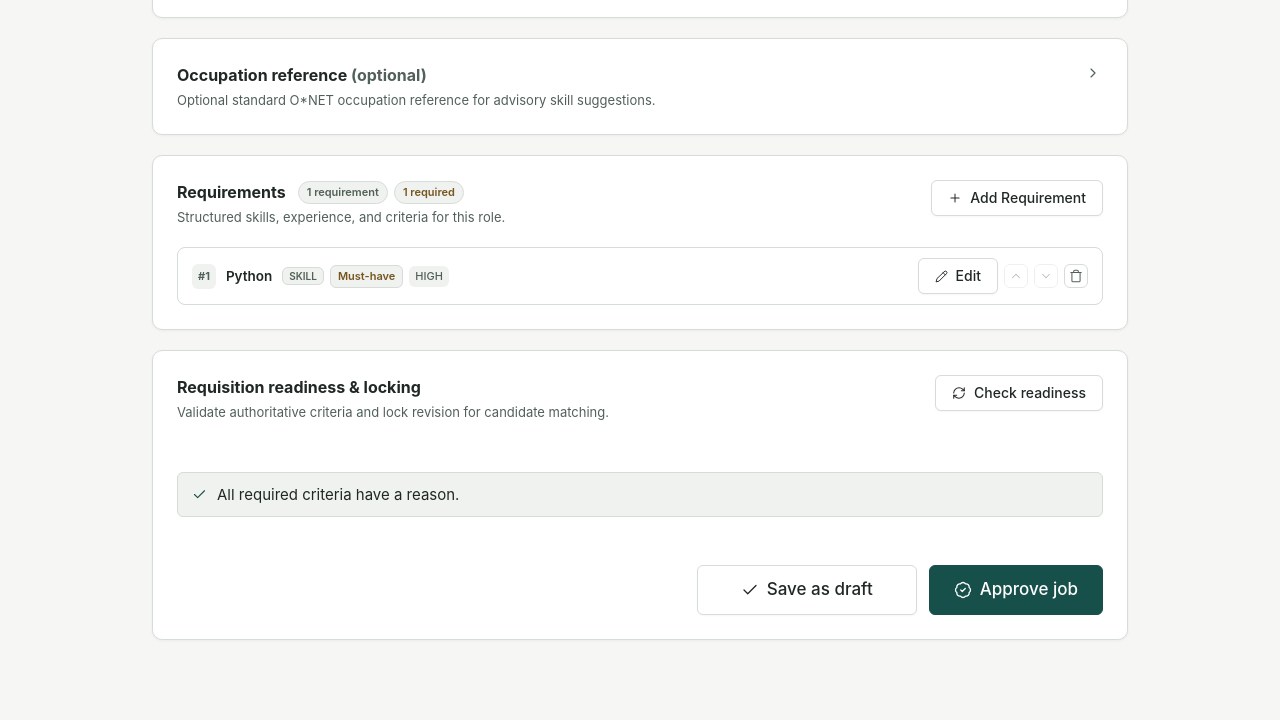
Test: Phase 2B.3: Jobs Workspace & Requirement Builder › Phase 2B.5: Requisition Readiness & Revision Locking › displays revision conflict message on stale ready attempt
The width and height of the screenshot is (1280, 720).
(page scrolled)
Click the button "Approve job" at (1016, 590), box [929,565,1103,615]
(page scrolled)
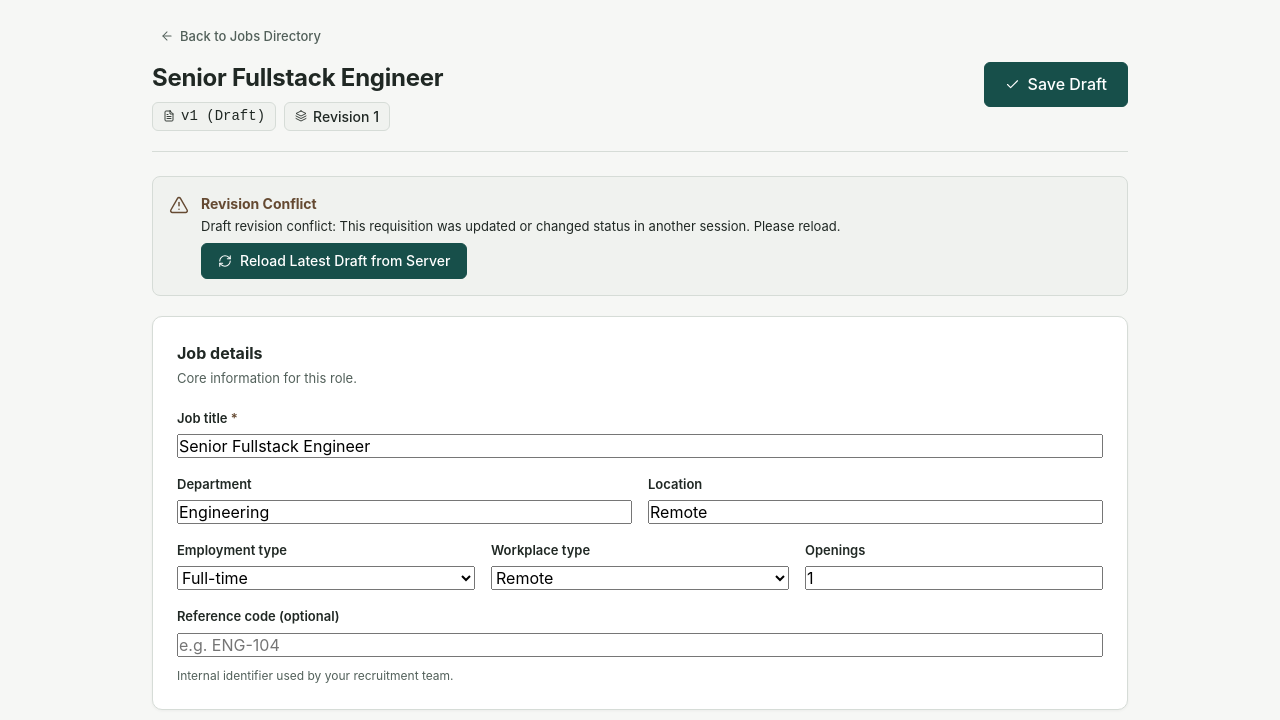
Expected: the heading "Revision Conflict" is shown, [201,195,317,212]
Expected: the text "This requisition was updated or changed status in another session" is shown, [201,218,840,234]
